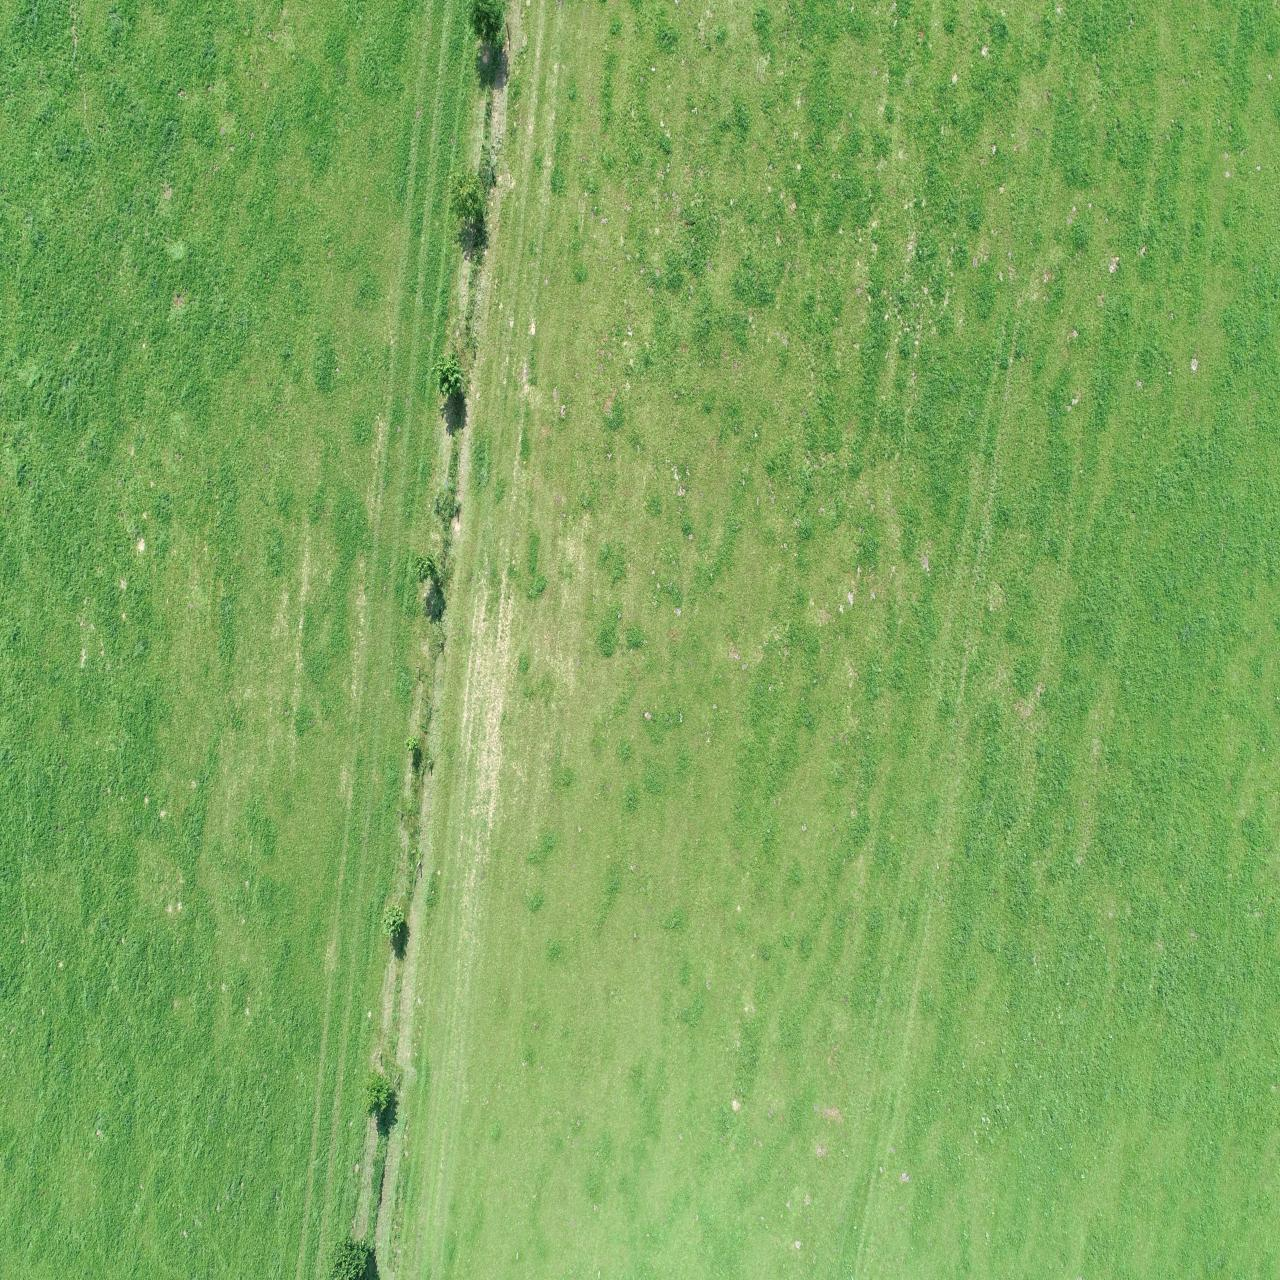cow: (763, 393, 852, 464), (779, 443, 826, 558), (625, 366, 710, 418)
